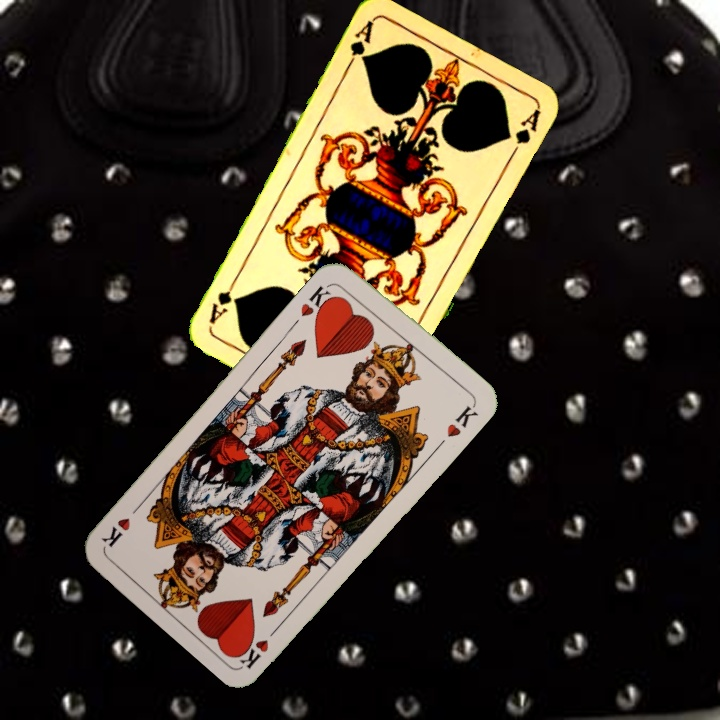GA: (342, 16, 377, 72)
HK: (235, 619, 284, 671), (296, 278, 339, 324)
